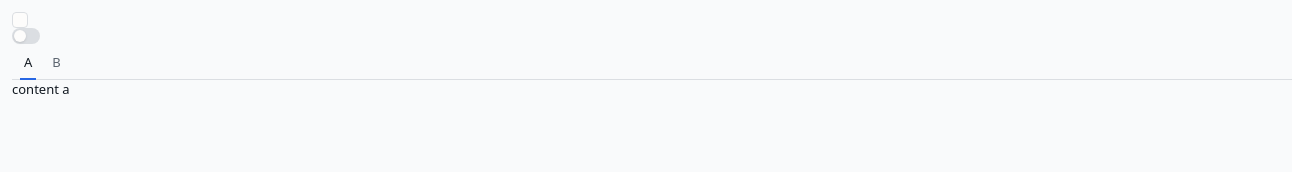
Test: ui primitives › Checkbox, Switch and Tabs toggle
Click the checkbox named "c": [20, 20] box [12,12,28,28]
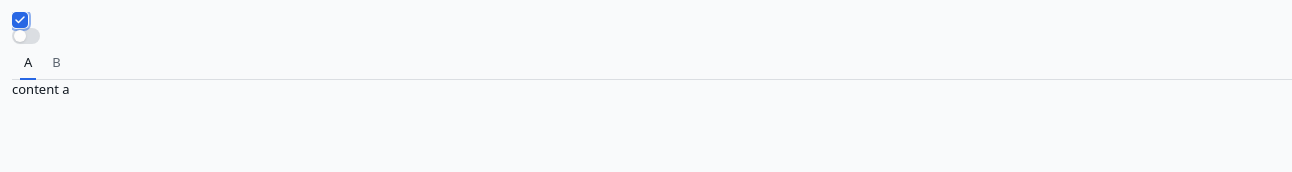
Expected: the checkbox named "c" is checked, [12,12,28,28]
Click the switch named "s": [26, 36] box [12,28,40,44]
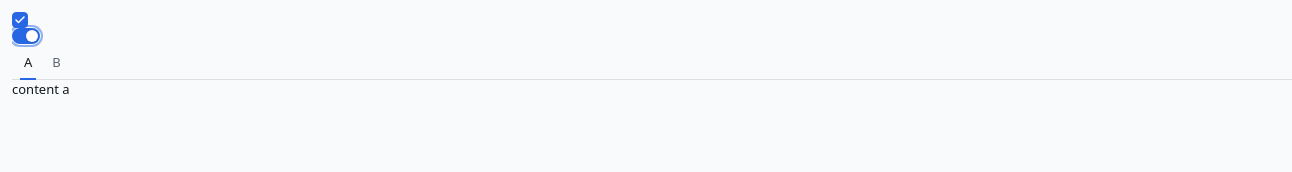
Expected: the switch named "s" is checked, [12,28,40,44]
Click the tab "B": [57, 64] box [48,48,65,80]
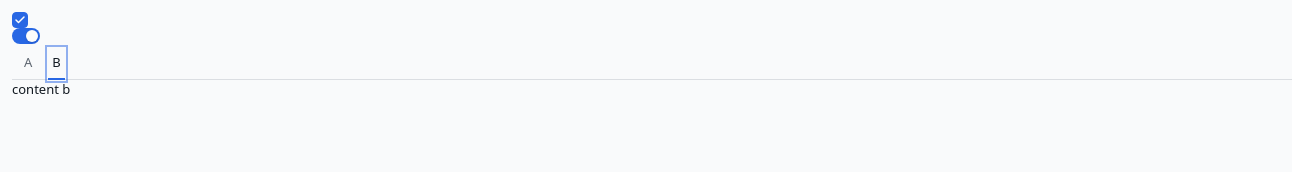
Expected: the text "content b" is shown, [12,80,70,98]
